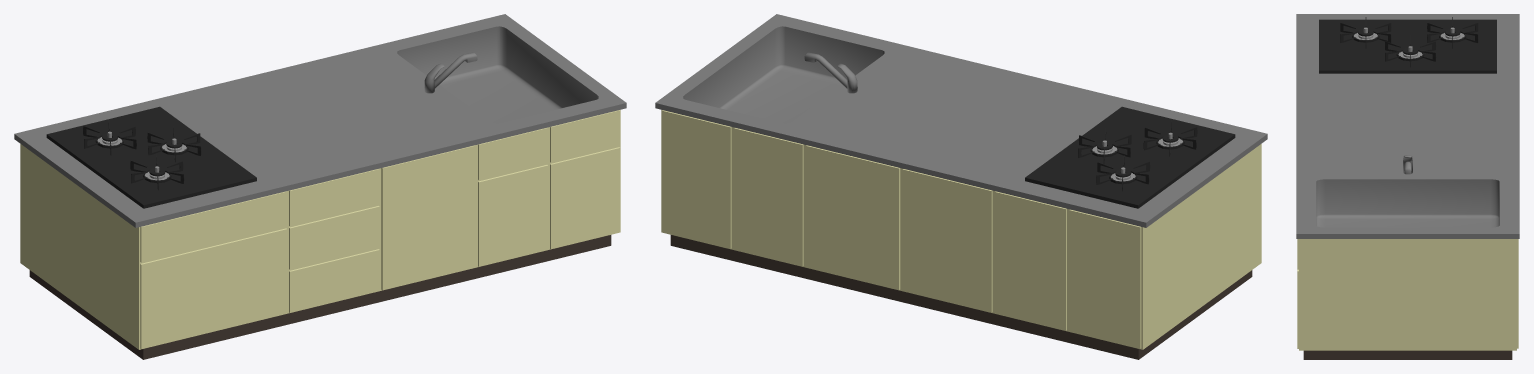
The model's file is kitchen_s.glb.
3 views of the same model, side by side, from view 1: azimuth 30°, elevation 25°; view 2: azimuth 150°, elevation 25°; view 3: azimuth 270°, elevation 25° (orthographic). The views are drawn at different scales.
Parts seen in each view (by area): view 1: 調理台.001; view 2: 調理台.001; view 3: 調理台.001.
Boxes of the visible parts, left/top/right/bottom form: 調理台.001: left=14, top=14, right=626, bottom=359; 調理台.001: left=655, top=14, right=1267, bottom=359; 調理台.001: left=1296, top=14, right=1519, bottom=359.
Size of the model in its own units: 2.1 by 0.7 by 0.9.
